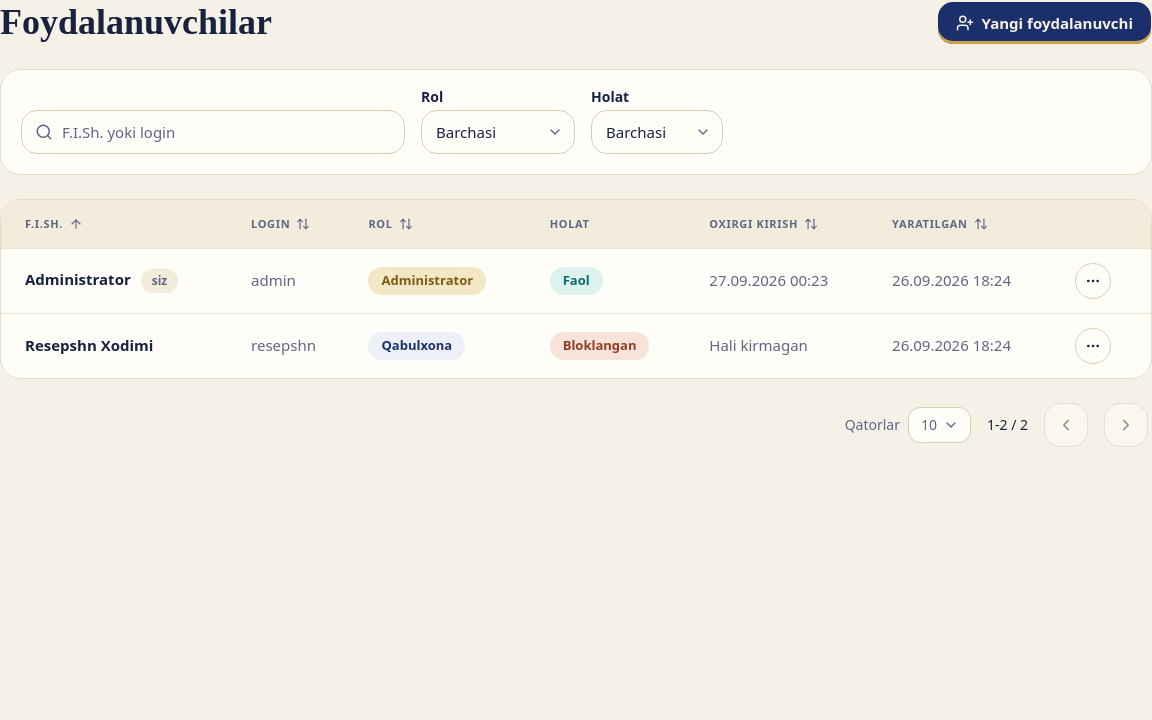
Test: UsersPage › should put a taken username under its field when creating fails
The image size is (1152, 720).
Expected: the text "Resepshn Xodimi" is shown, [25,335,153,355]
Click the button "Yangi foydalanuvchi".
click(1044, 23)  # box [937,1,1151,45]
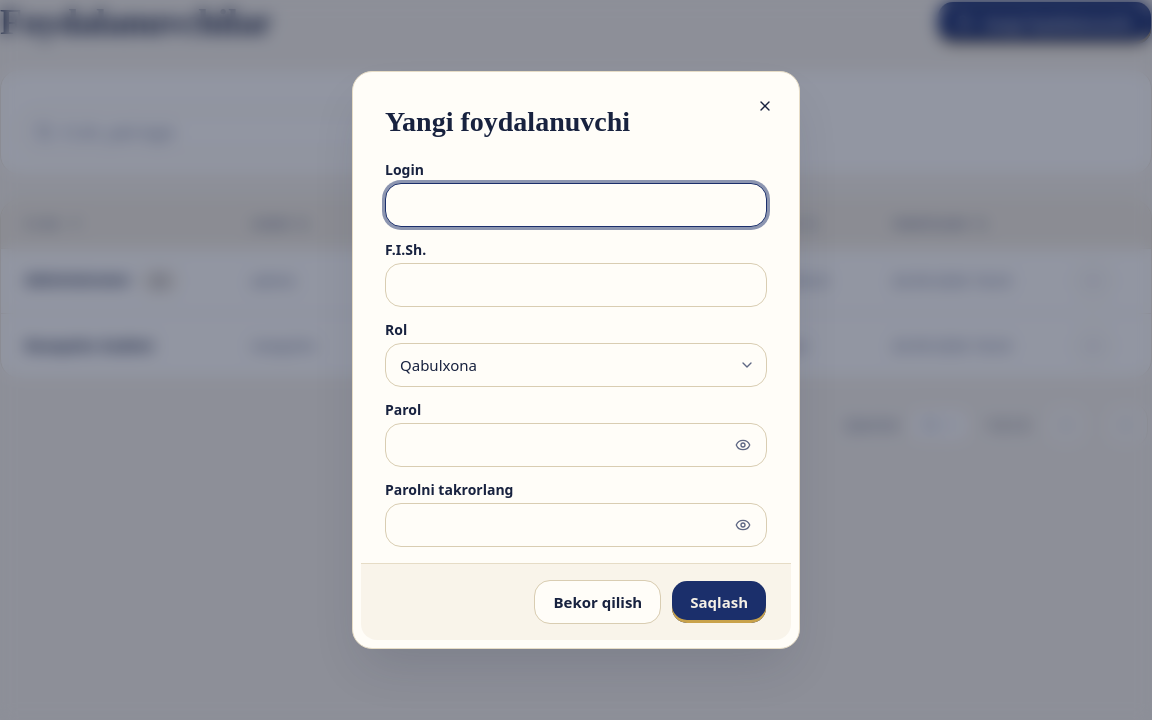
Type "Admin" into the field labelled "Login".
click(576, 205); type("Admin")  # box [385,183,767,227]
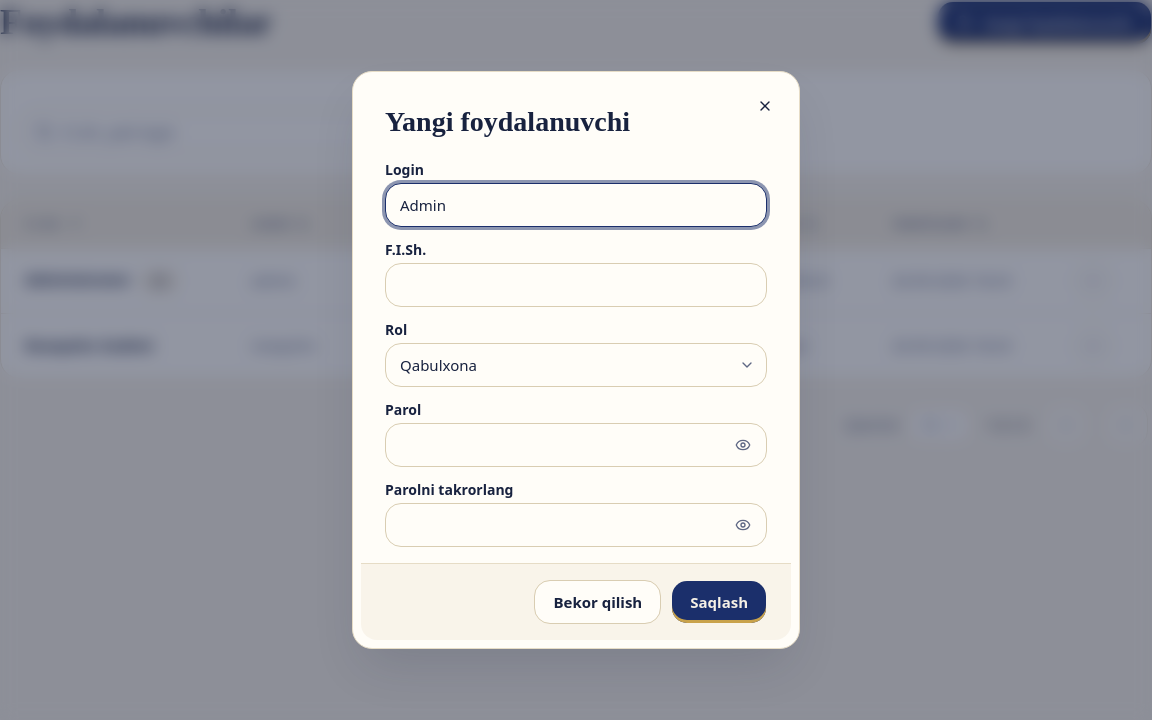
Type "Test" into the field labelled "F.I.Sh.".
click(576, 285); type("Test")  # box [385,263,767,307]
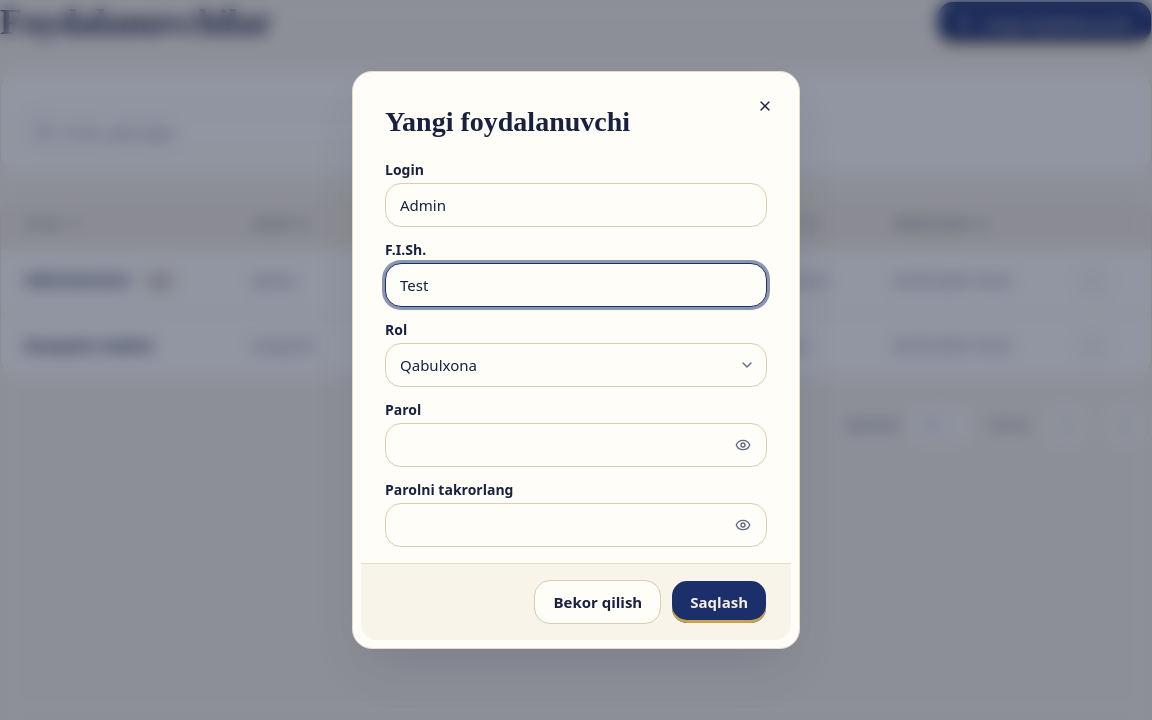
Type "Kitob2026" into the password field labelled "Parol".
click(576, 445); type("Kitob2026")  # box [385,423,767,467]
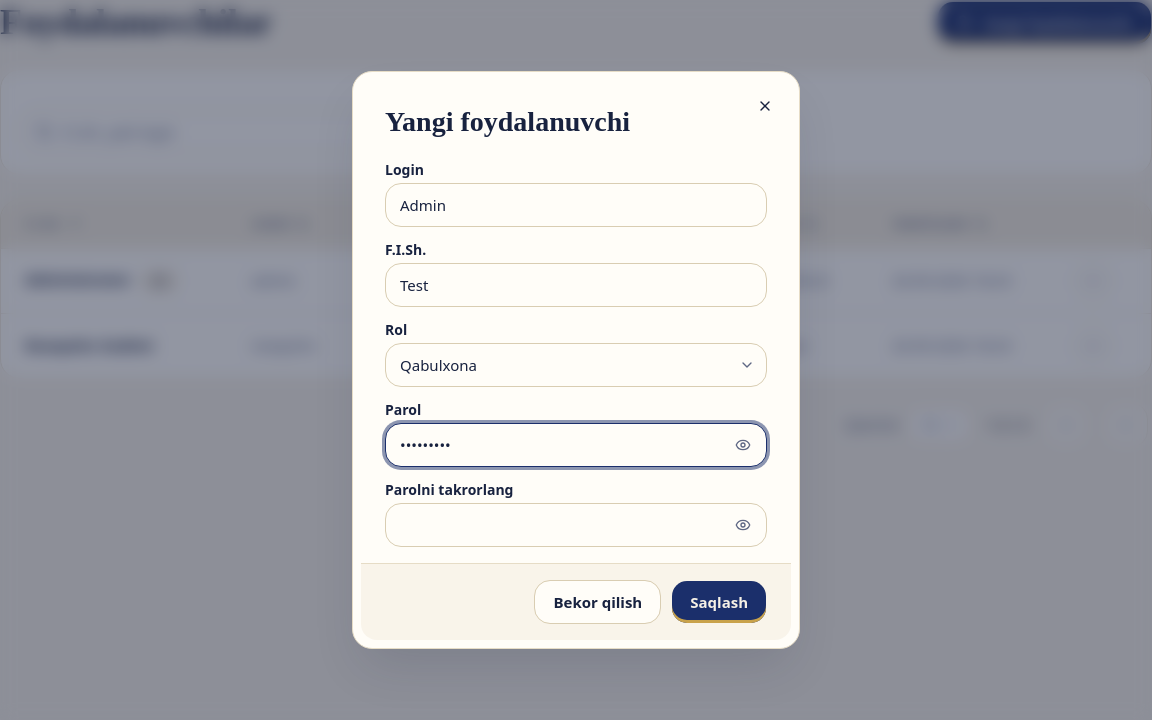
Type "Kitob2026" into the password field labelled "Parolni takrorlang".
click(576, 525); type("Kitob2026")  # box [385,503,767,547]
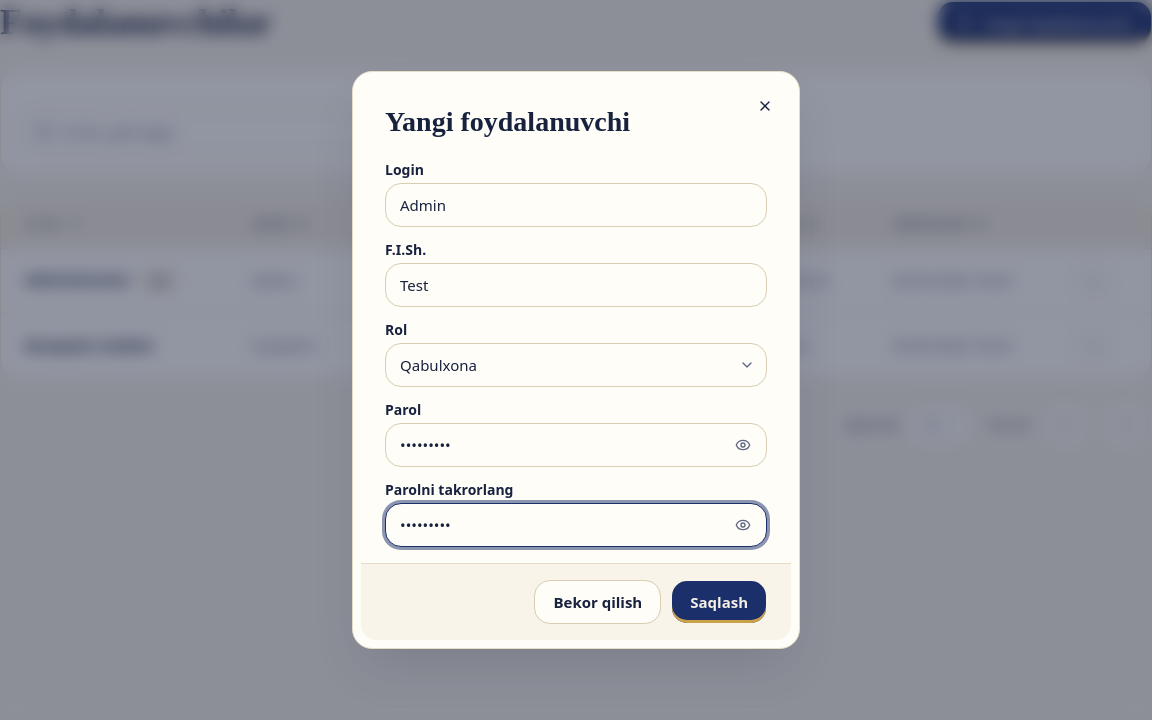
Click the button "Saqlash".
click(719, 602)  # box [671,580,767,624]
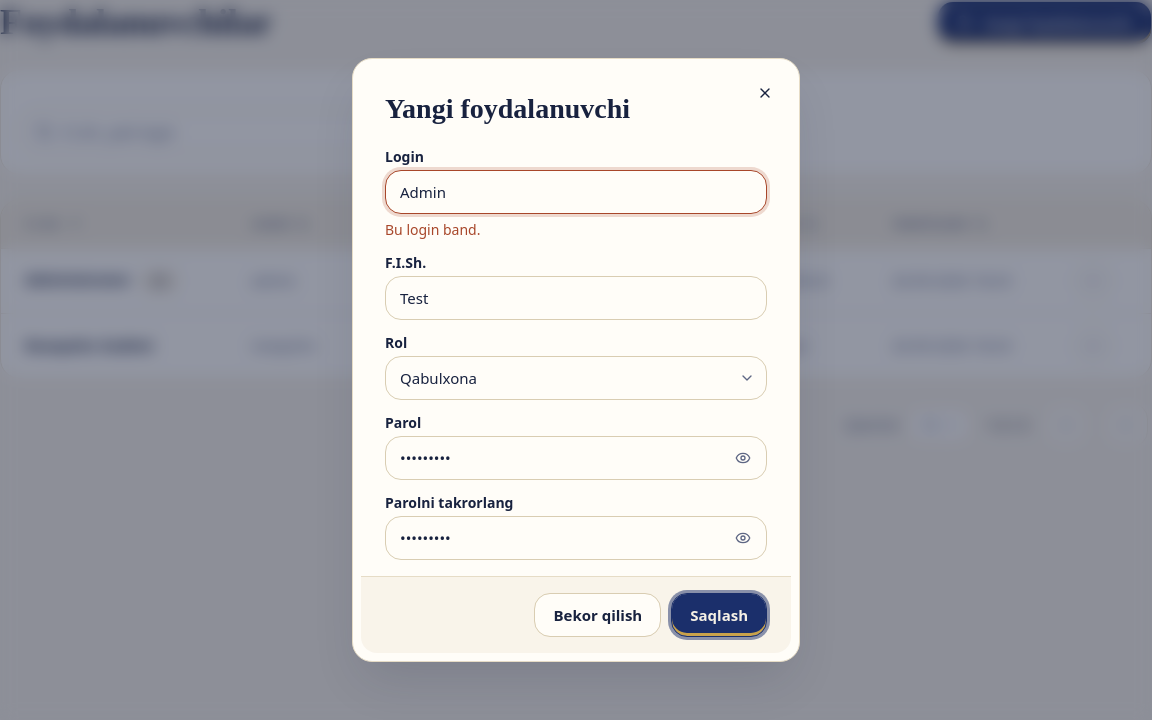
Expected: the text "Bu login band." is shown, [385,220,480,239]
